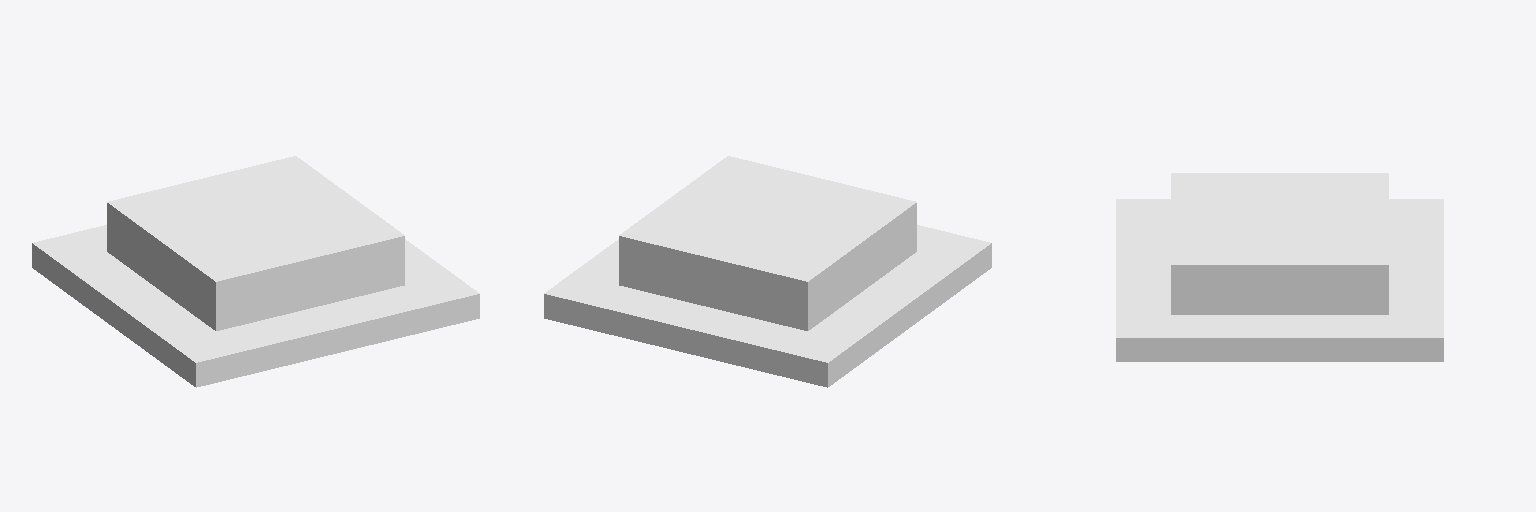
Rendered from buttonShape_stop.obj.
The picture shows the model from 3 angles: view 1: azimuth 30°, elevation 25°; view 2: azimuth 150°, elevation 25°; view 3: azimuth 270°, elevation 25°; orthographic projection.
Size of the model in its own units: 12 by 3 by 12.